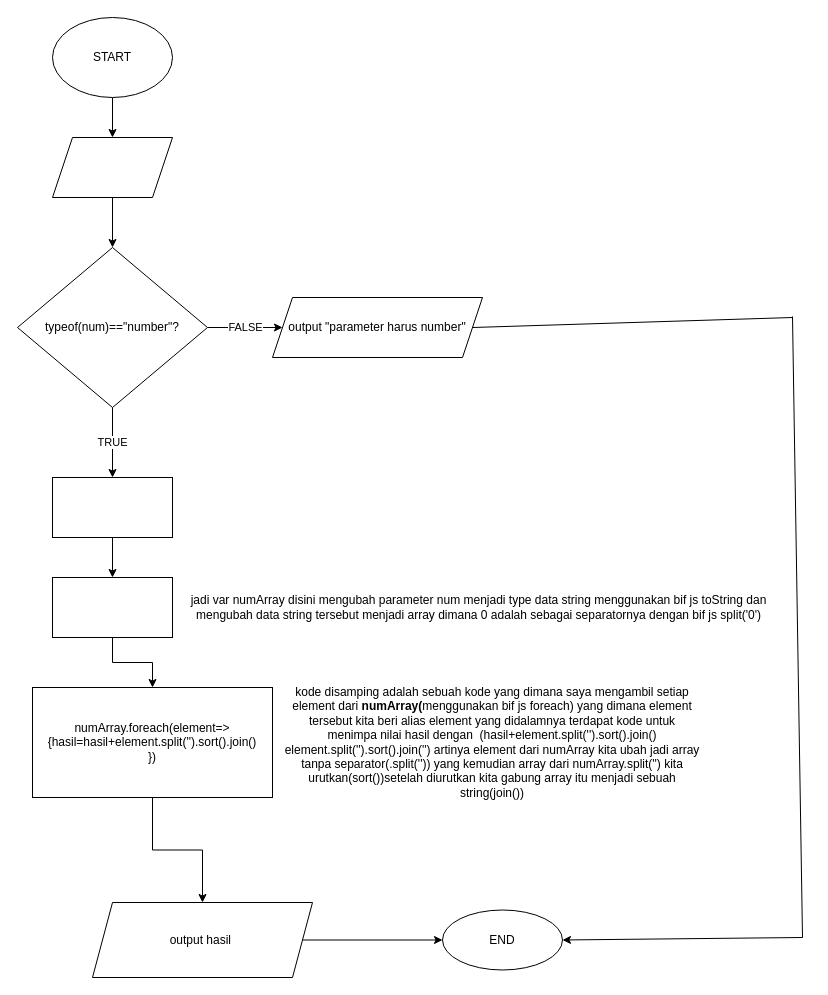
Image size: 828x995. Some labels were removed from this diagram. Here are the shapes that lost their labels. From the top down, the centre of each, then its label:
the point at 112,167: Input num
the point at 112,507: let hasil = ''
the point at 112,607: let numArray = num.toString().split('0')
